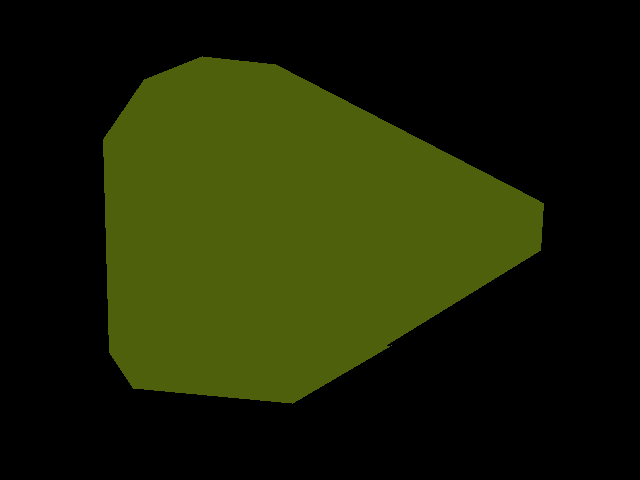Train: (103, 56, 543, 404)
